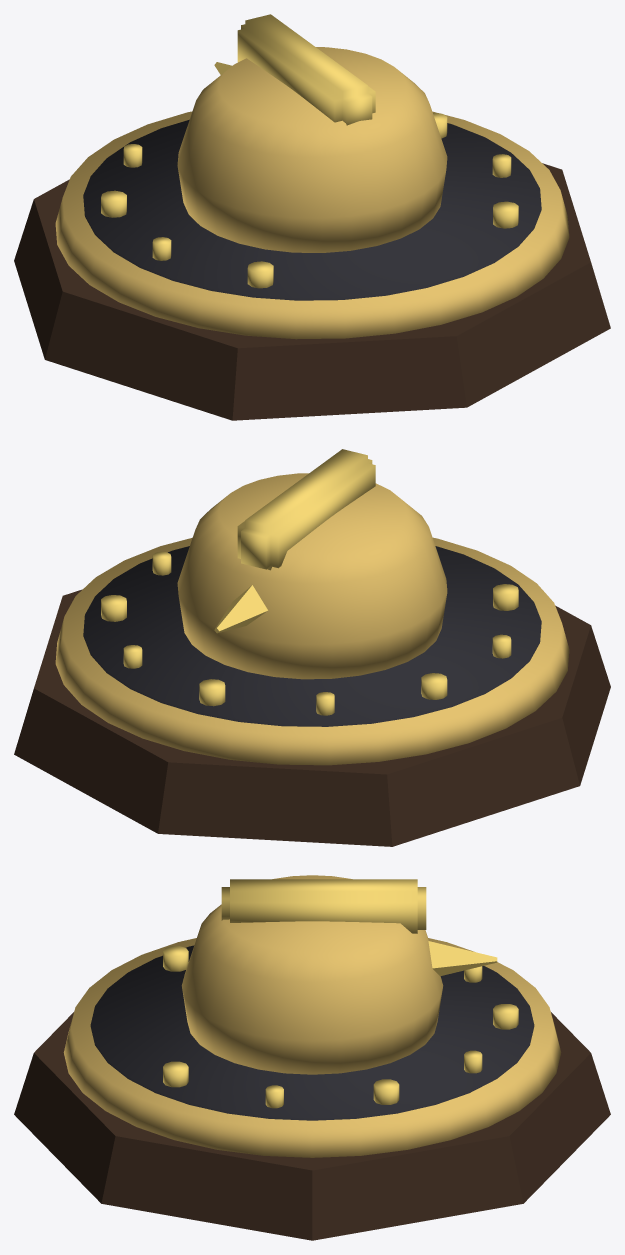
File: settings_brass_dial.glb
The picture shows the model from 3 angles, top to bottom: view 1: azimuth 30°, elevation 25°; view 2: azimuth 150°, elevation 25°; view 3: azimuth 270°, elevation 25°; orthographic projection. The views are drawn at different scales.
Parts seen in each view (by area): view 1: BaseWalnut, KnobDrum, FacePlate, BezelRing, KnobGrip, Tick_0, Tick_2, Tick_8; view 2: BaseWalnut, KnobDrum, FacePlate, BezelRing, KnobGrip, PointerTip, Tick_2, Tick_4, Tick_6, Tick_0; view 3: BaseWalnut, KnobDrum, FacePlate, BezelRing, KnobGrip, PointerTip, Tick_6, Tick_8, Tick_4, Tick_0.
Boxes of the visible parts, bbox=[...] form: BaseWalnut: bbox=[14, 163, 610, 420]; KnobDrum: bbox=[177, 47, 447, 252]; FacePlate: bbox=[83, 119, 541, 300]; BezelRing: bbox=[55, 111, 569, 339]; KnobGrip: bbox=[237, 14, 375, 125]; Tick_0: bbox=[247, 261, 273, 288]; Tick_2: bbox=[101, 190, 126, 217]; Tick_8: bbox=[493, 201, 518, 228]; BaseWalnut: bbox=[14, 589, 610, 846]; KnobDrum: bbox=[177, 473, 447, 679]; FacePlate: bbox=[83, 546, 541, 726]; BezelRing: bbox=[55, 537, 569, 765]; KnobGrip: bbox=[237, 449, 375, 570]; PointerTip: bbox=[214, 585, 267, 633]; Tick_2: bbox=[421, 673, 447, 699]; Tick_4: bbox=[199, 679, 225, 706]; Tick_6: bbox=[101, 595, 126, 621]; Tick_0: bbox=[493, 584, 518, 610]; BaseWalnut: bbox=[14, 1012, 610, 1240]; KnobDrum: bbox=[181, 875, 443, 1074]; FacePlate: bbox=[90, 945, 534, 1120]; BezelRing: bbox=[63, 938, 561, 1157]; KnobGrip: bbox=[221, 879, 426, 933]; PointerTip: bbox=[428, 941, 497, 976]; Tick_6: bbox=[373, 1079, 399, 1104]; Tick_8: bbox=[163, 1061, 188, 1087]; Tick_4: bbox=[493, 1004, 518, 1029]; Tick_0: bbox=[163, 946, 188, 971].
Size of the model in its own units: 0.21 by 0.089 by 0.21.
